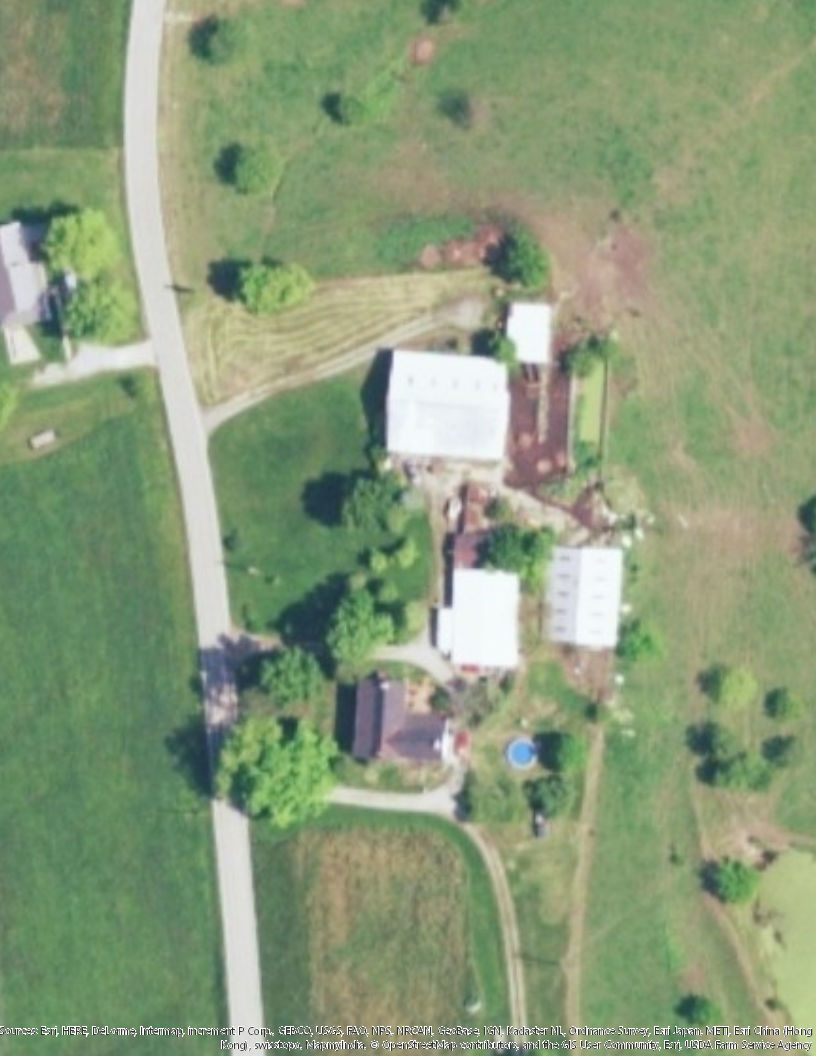cafo: (374, 327, 593, 486), (427, 509, 529, 677), (526, 534, 636, 659)
